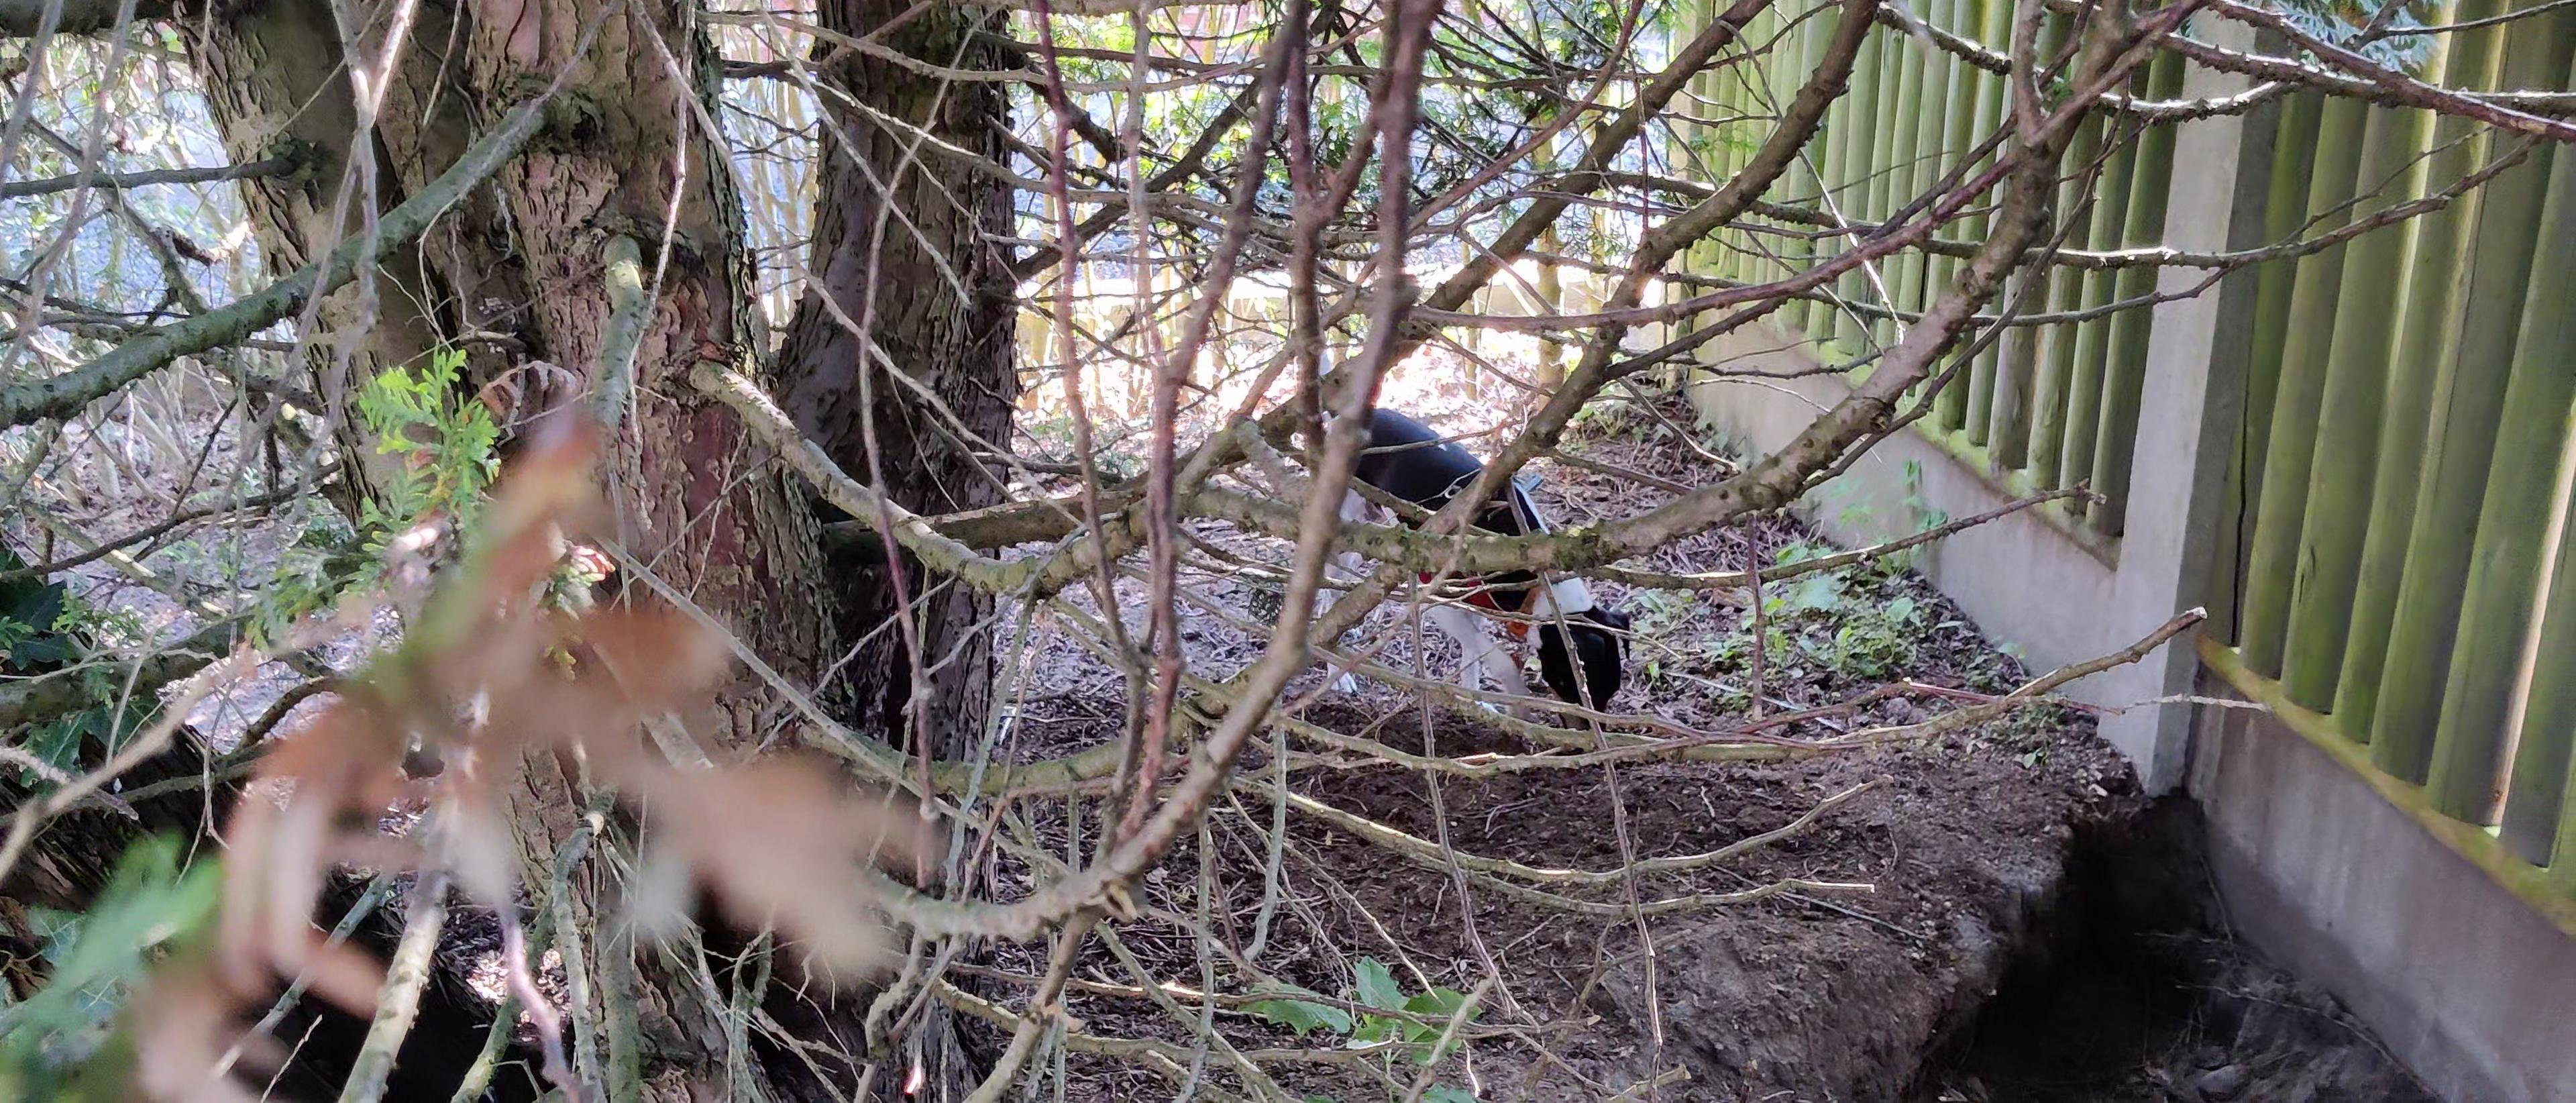Dog: (1272, 265, 1638, 758)
